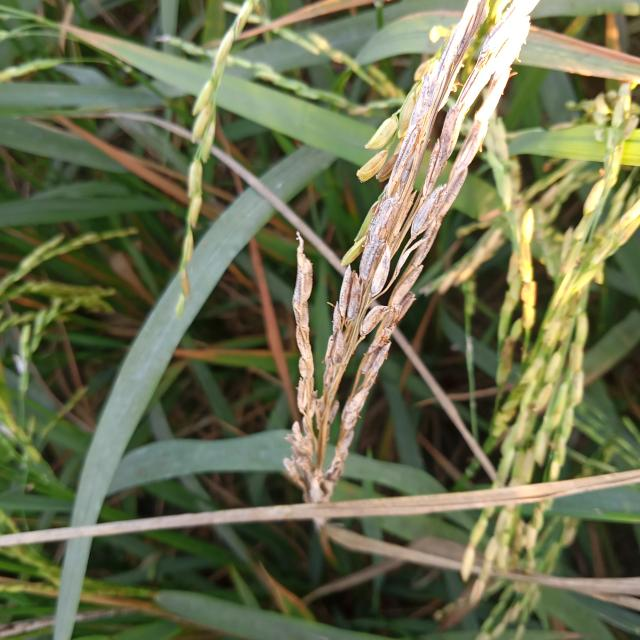Neck_Blast: (280, 1, 542, 505)
